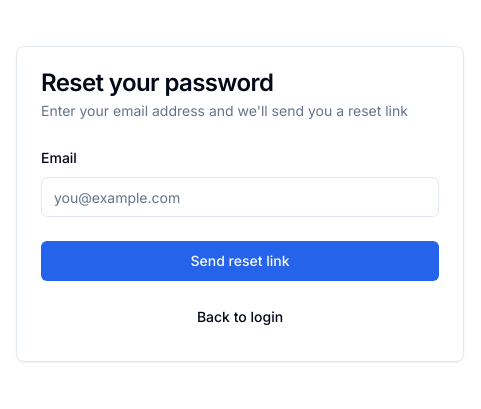
Test: ResetPasswordPage › Password Reset Flow - Error Cases › should handle network errors
Type "test@example.com" into the field labelled "Email". click: (240, 197)
box: [41,177,439,217]
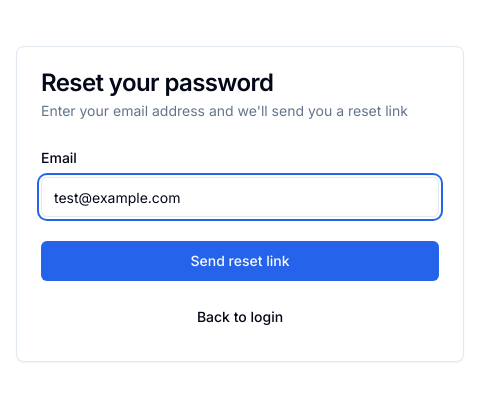
Click the button "Send reset link". click: (240, 261)
box: [41,241,439,281]
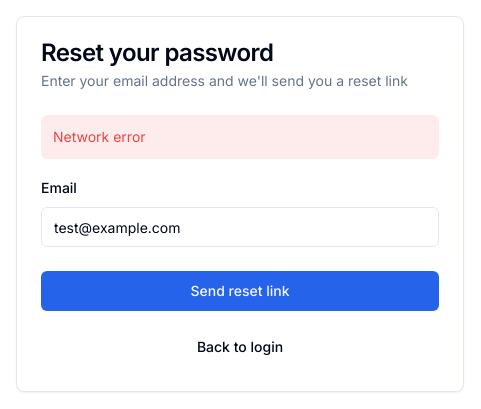
Result: the text "Network error" is shown at [41,115,439,159]
